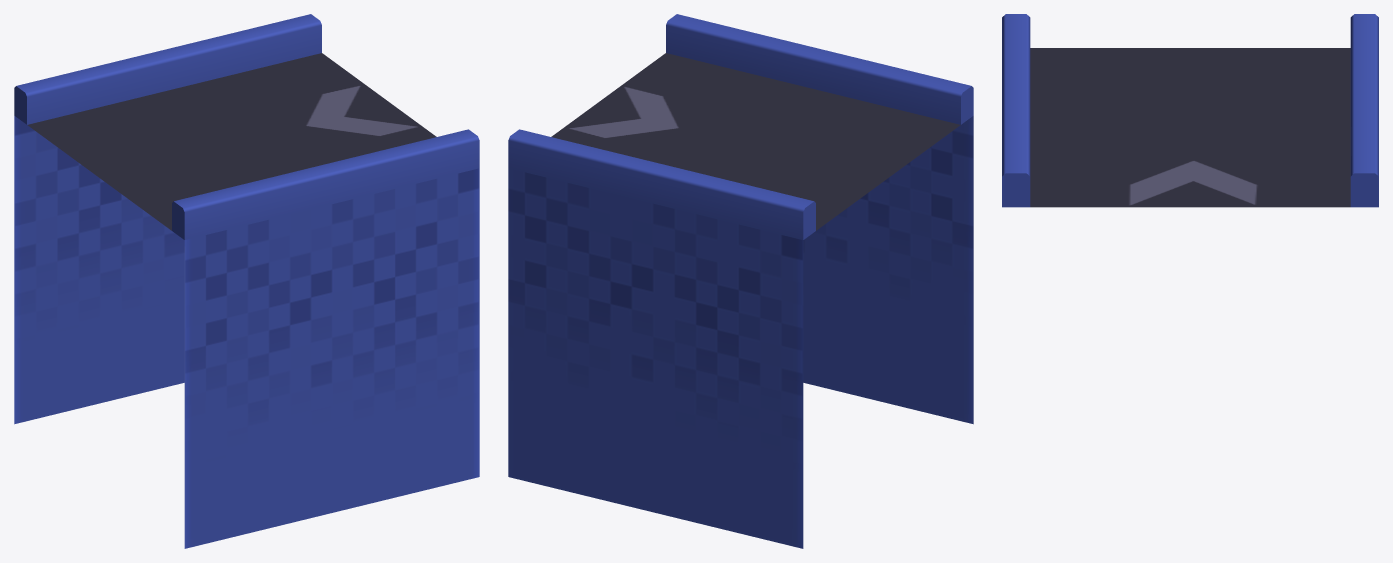
File: Side_new.fbx
The picture shows the model from 3 angles, left to right: view 1: azimuth 30°, elevation 25°; view 2: azimuth 150°, elevation 25°; view 3: azimuth 270°, elevation 25°; orthographic projection. The views are drawn at different scales.
Parts seen in each view (by area): view 1: Sides; view 2: Sides; view 3: Sides.
Boxes of the visible parts, x1,y1,x2,y2 form: Sides: (14, 14, 479, 548); Sides: (508, 14, 973, 548); Sides: (1002, 14, 1378, 207).
Bounding box in the file's own units: 200 × 200 × 220.
